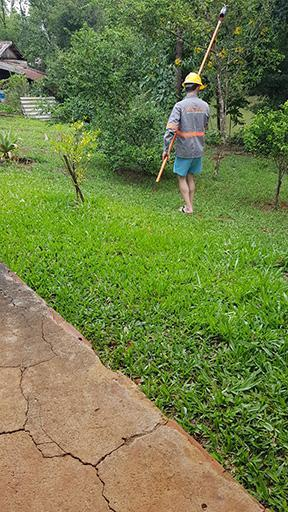helmet: (180, 71, 205, 93)
